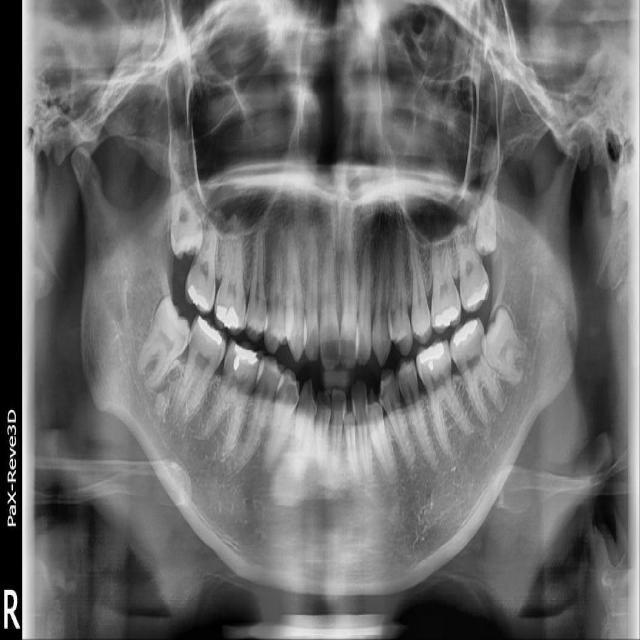3M ESPE Implant: (170, 167, 204, 260)
52: (176, 310, 239, 373), (211, 332, 274, 393), (439, 316, 495, 372), (408, 336, 463, 391), (423, 281, 468, 335), (211, 285, 249, 337), (183, 265, 217, 315), (459, 263, 491, 312)
73: (603, 570, 608, 580)
BioHorizons Implant: (451, 204, 492, 314)
BioLife Implant: (475, 171, 497, 256)
Biomet 3i Implant: (467, 306, 542, 392)
Blue Sky Bio Implant: (442, 314, 510, 429)
Caries: (183, 205, 220, 315)
Implant: (169, 313, 232, 433)
Keystone Dental Implant: (128, 294, 203, 396)
